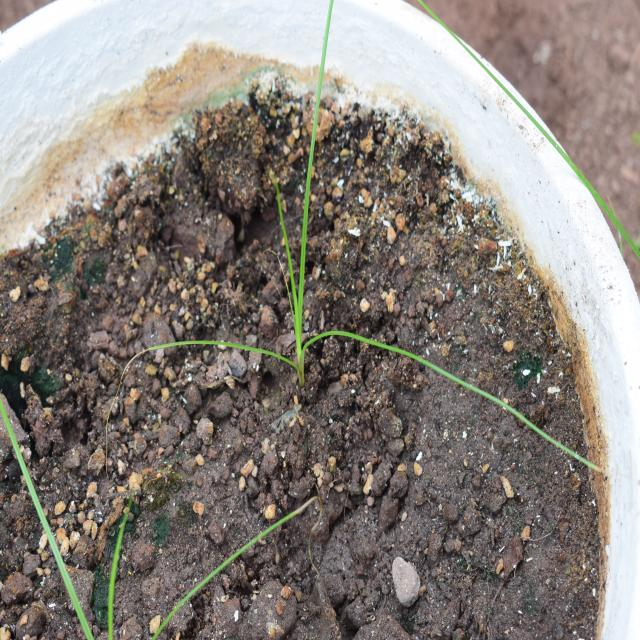sedge: (142, 35, 474, 405)
